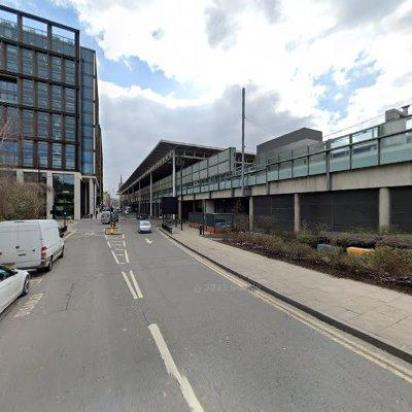moving-car: (136, 218, 152, 234)
moving-light-truck: (100, 208, 118, 224)
stationary-car-onstreet: (0, 264, 30, 316)
stationary-light-truck-onstreet: (0, 220, 66, 274)
